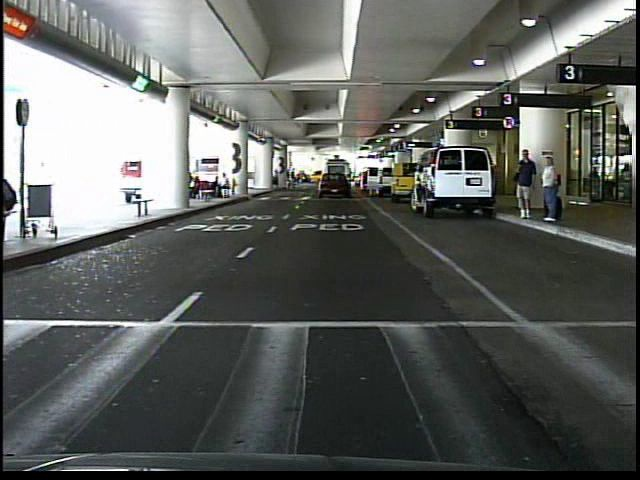person: (511, 146, 538, 224), (539, 151, 562, 226), (271, 167, 282, 192), (341, 171, 350, 192)
